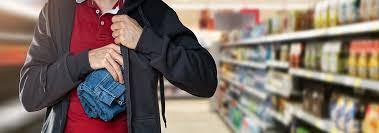shoplifting: (51, 15, 157, 133)
